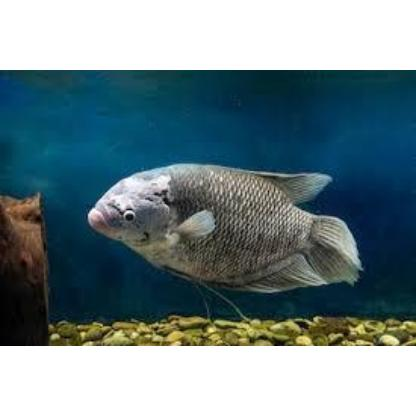gurame: (86, 162, 364, 308)
